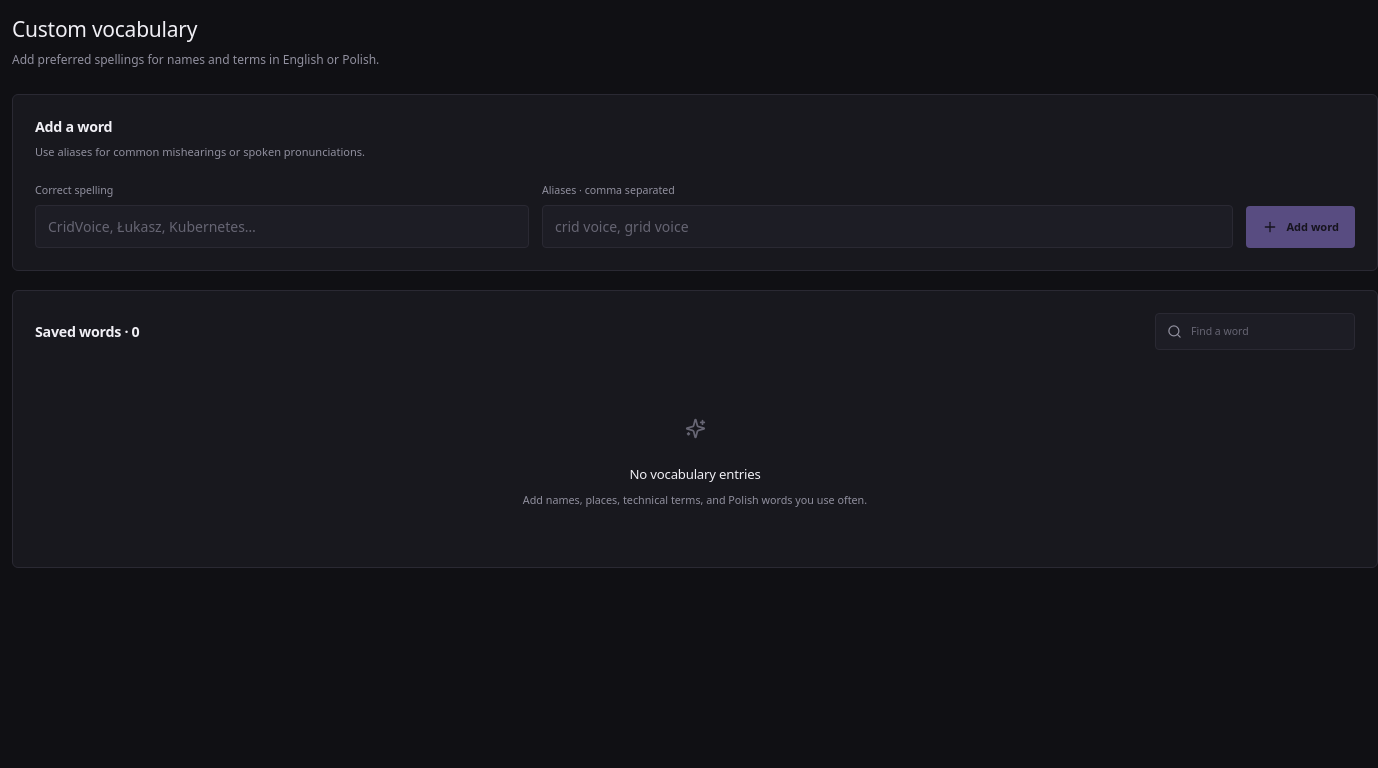
Test: Pending panel mutations › adds vocabulary once, retains newer typing, and uses the latest collection
In the field labelled "Correct spelling": (282, 226) x1=35 y1=205 x2=529 y2=248, type "First word"
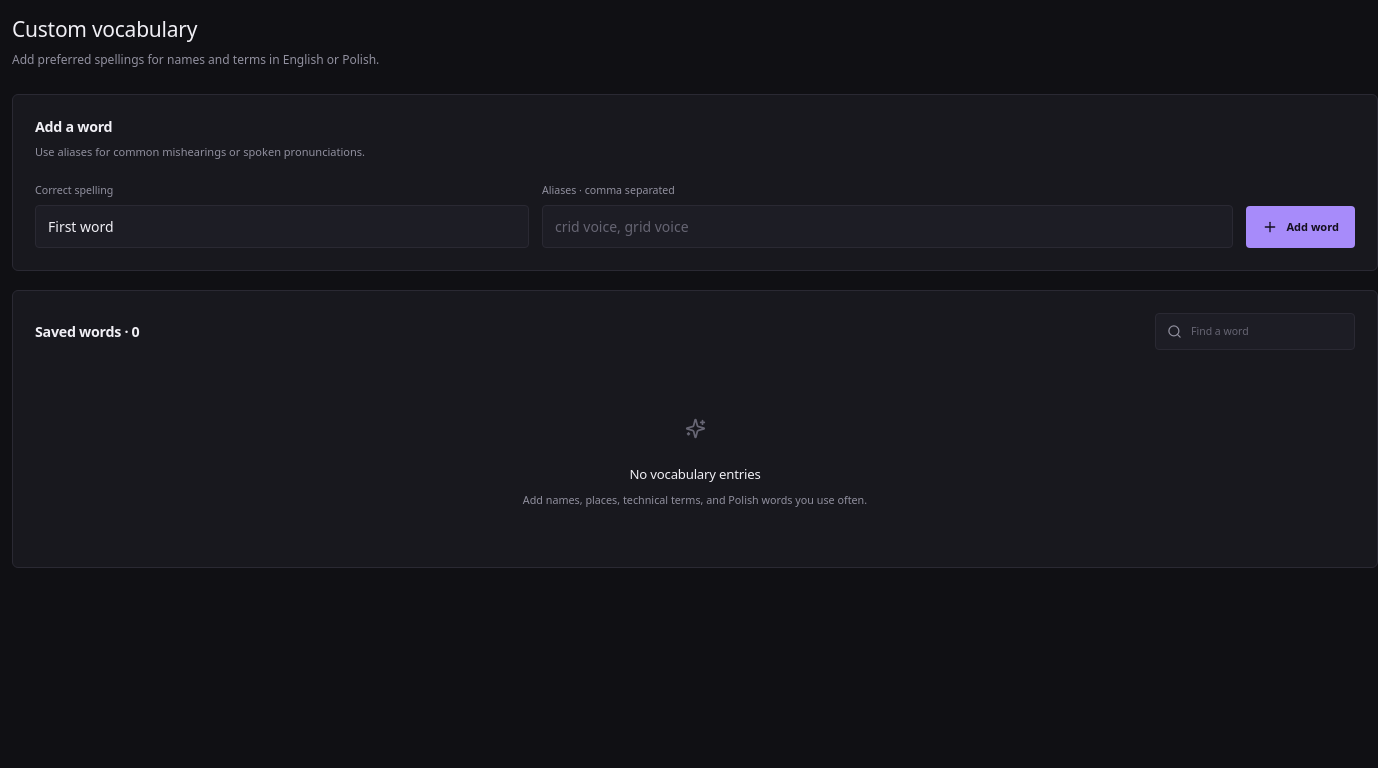
In the field labelled "Aliases · comma separated": (888, 226) x1=542 y1=205 x2=1233 y2=248, type "first alias"
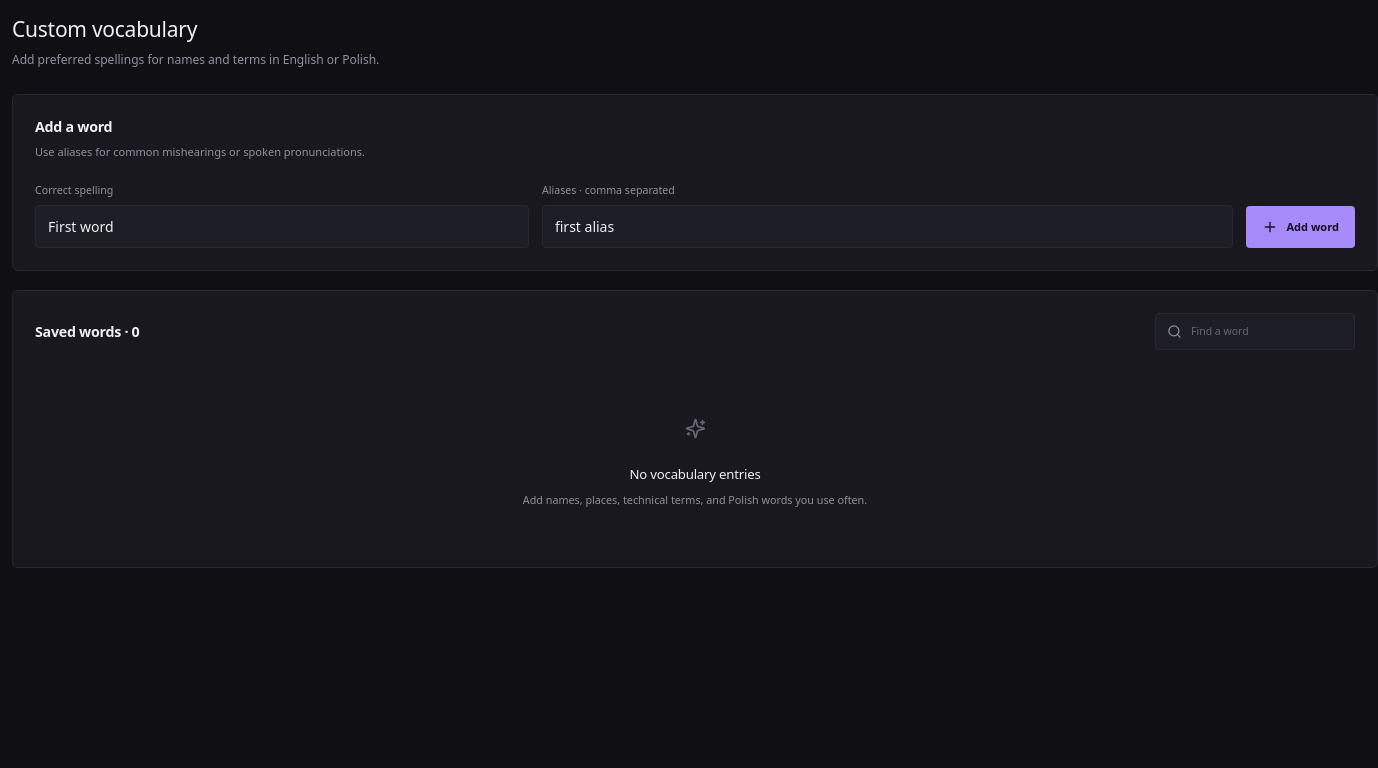
Submit the form "Add word", box x1=35 y1=183 x2=1355 y2=248
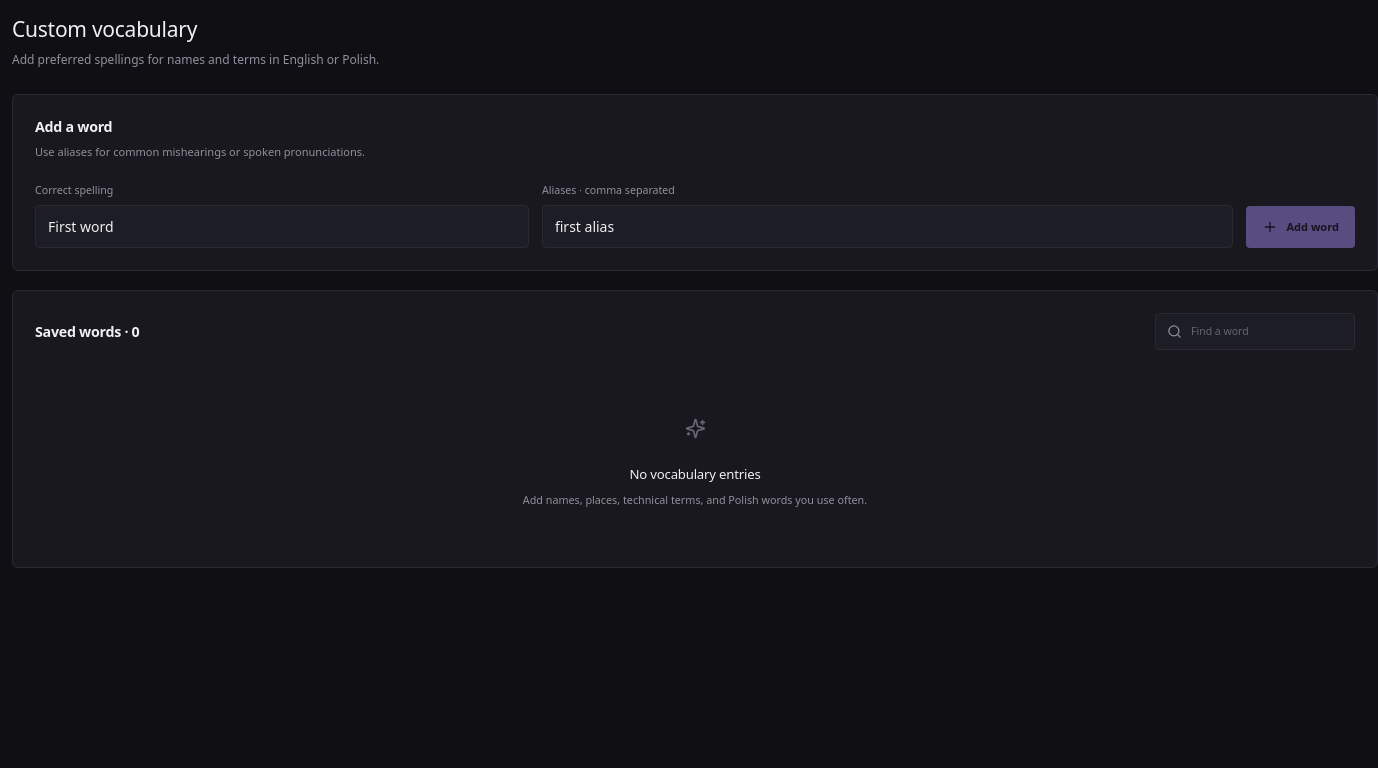
Submit the form "Add word", box x1=35 y1=183 x2=1355 y2=248
Replace the text in the field labelled "Correct spelling" with "Next word": (282, 226) x1=35 y1=205 x2=529 y2=248
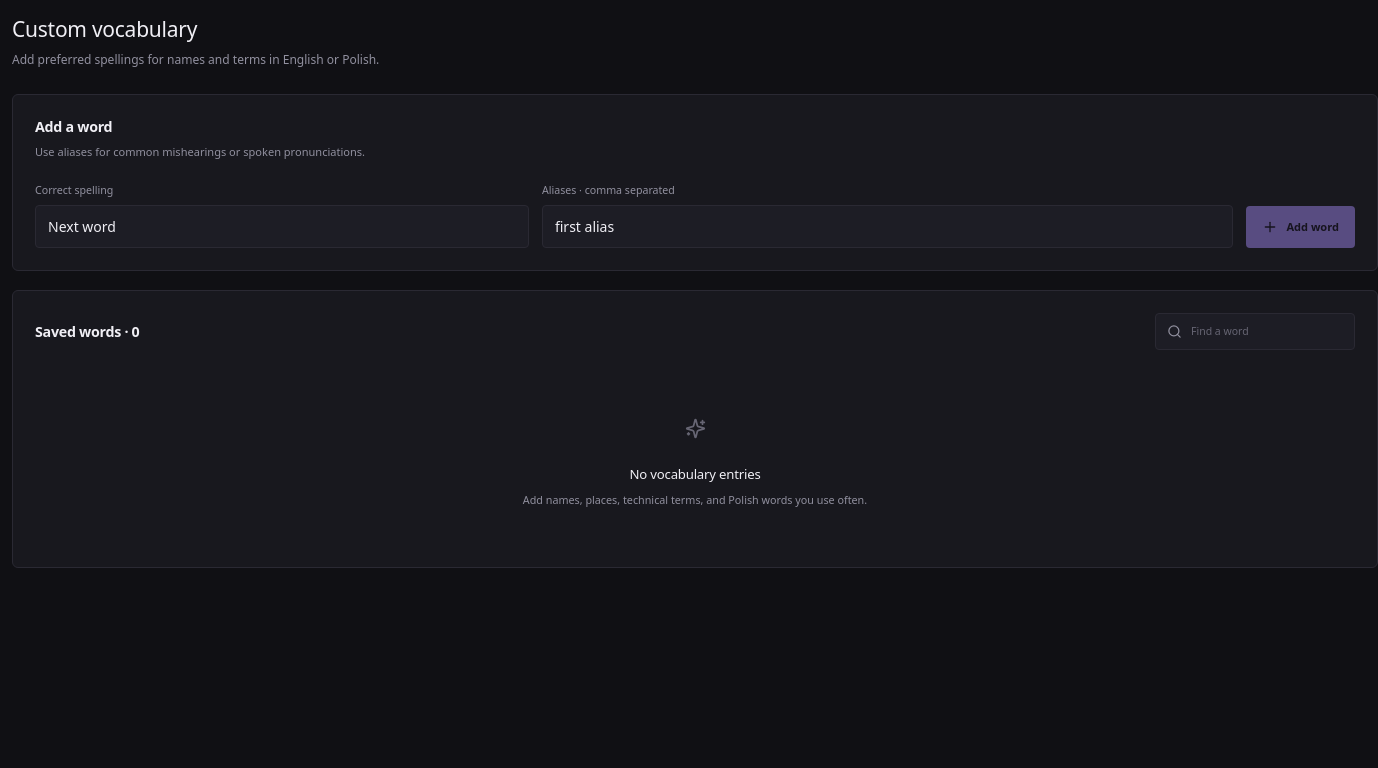
Replace the text in the field labelled "Aliases · comma separated" with "next alias": (888, 226) x1=542 y1=205 x2=1233 y2=248
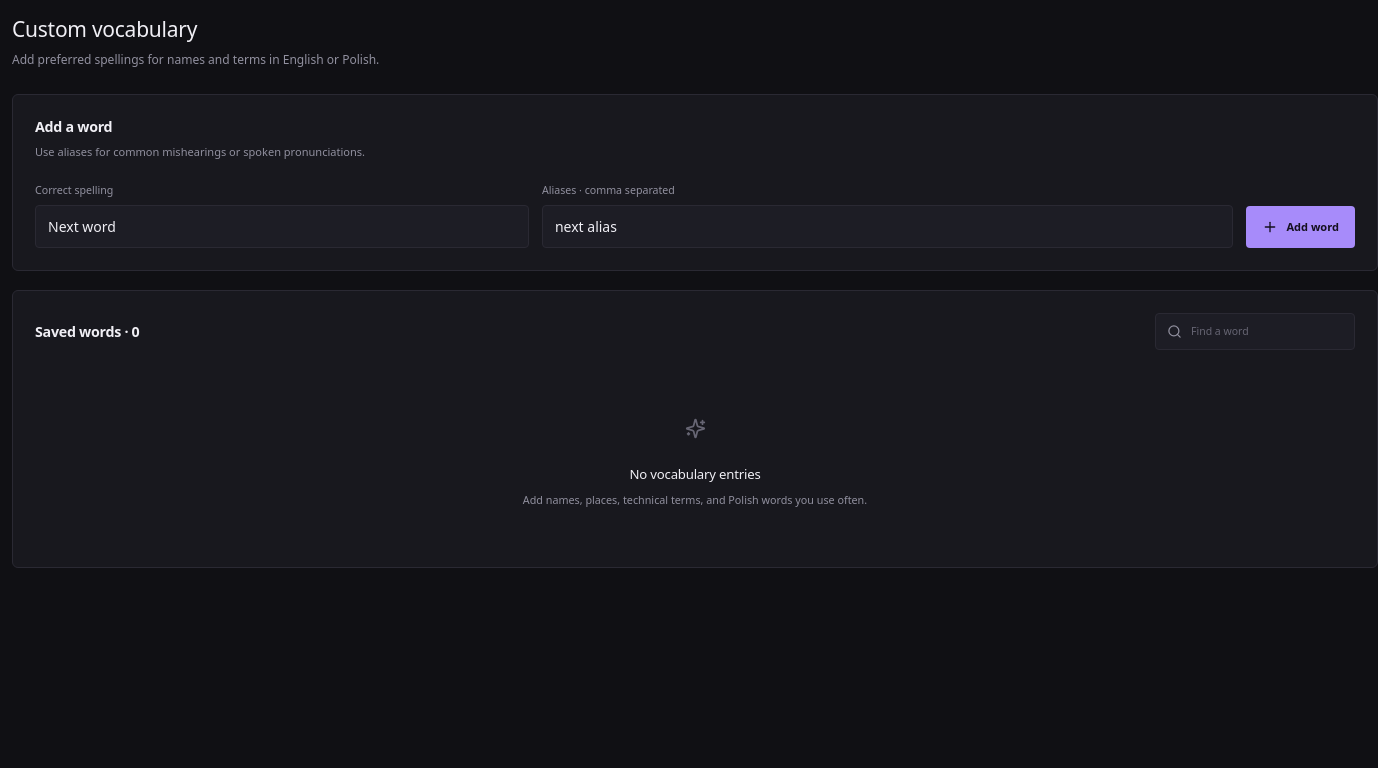
Now the button "Add word" is enabled, box x1=1246 y1=206 x2=1355 y2=248
